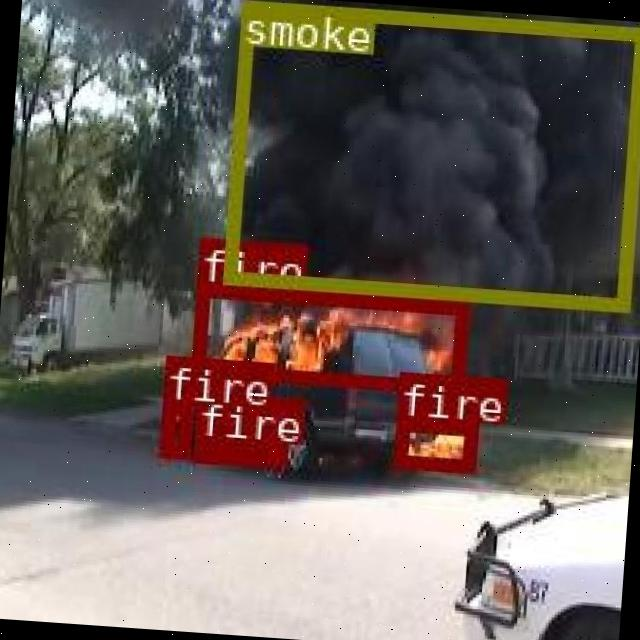fire: (190, 280, 466, 392), (390, 416, 473, 471), (190, 436, 283, 466), (158, 399, 189, 456)
smoke: (220, 0, 640, 307)
